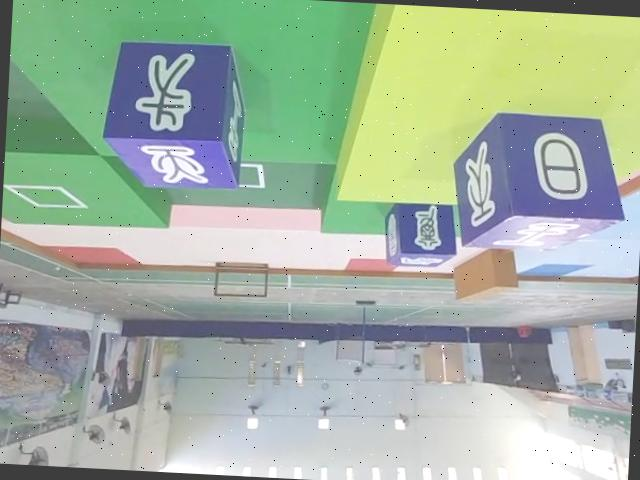R2 Fake Blue: (448, 105, 631, 255), (102, 36, 250, 194), (382, 198, 460, 268)
